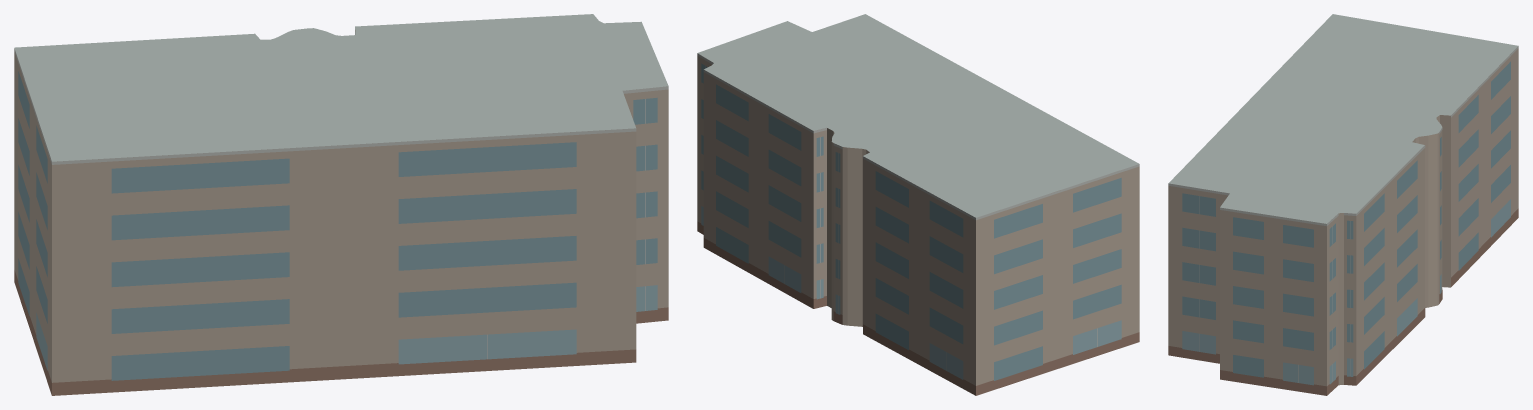
The model's file is survey-upis-32490596.glb.
3 renders of one model, left to right at view 1: azimuth 30°, elevation 25°; view 2: azimuth 150°, elevation 25°; view 3: azimuth 270°, elevation 25°, orthographic. The views are drawn at different scales.
Parts seen in each view (by area): view 1: survey-upis-32490596.tmp; view 2: survey-upis-32490596.tmp; view 3: survey-upis-32490596.tmp.
Part boxes in pixels (left/top/right/bottom): survey-upis-32490596.tmp: left=14, top=14, right=668, bottom=395; survey-upis-32490596.tmp: left=697, top=14, right=1139, bottom=395; survey-upis-32490596.tmp: left=1168, top=14, right=1518, bottom=395.
Size of the model in its own units: 46.86 by 17.9 by 33.03.
